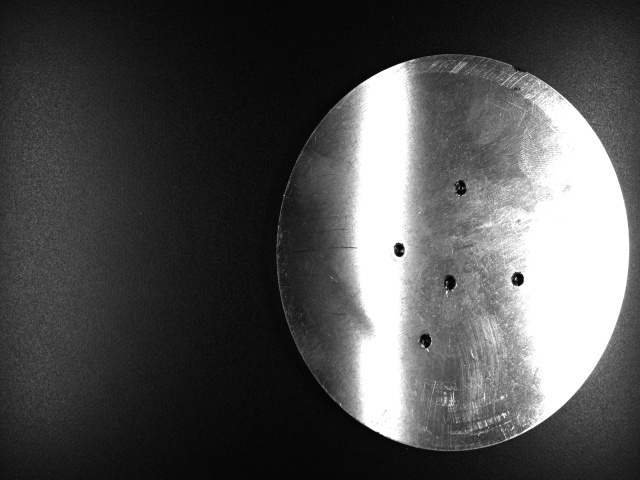zhen_kong: (440, 270, 464, 295), (388, 238, 411, 262), (413, 330, 436, 353), (450, 178, 471, 198), (509, 269, 528, 289)
